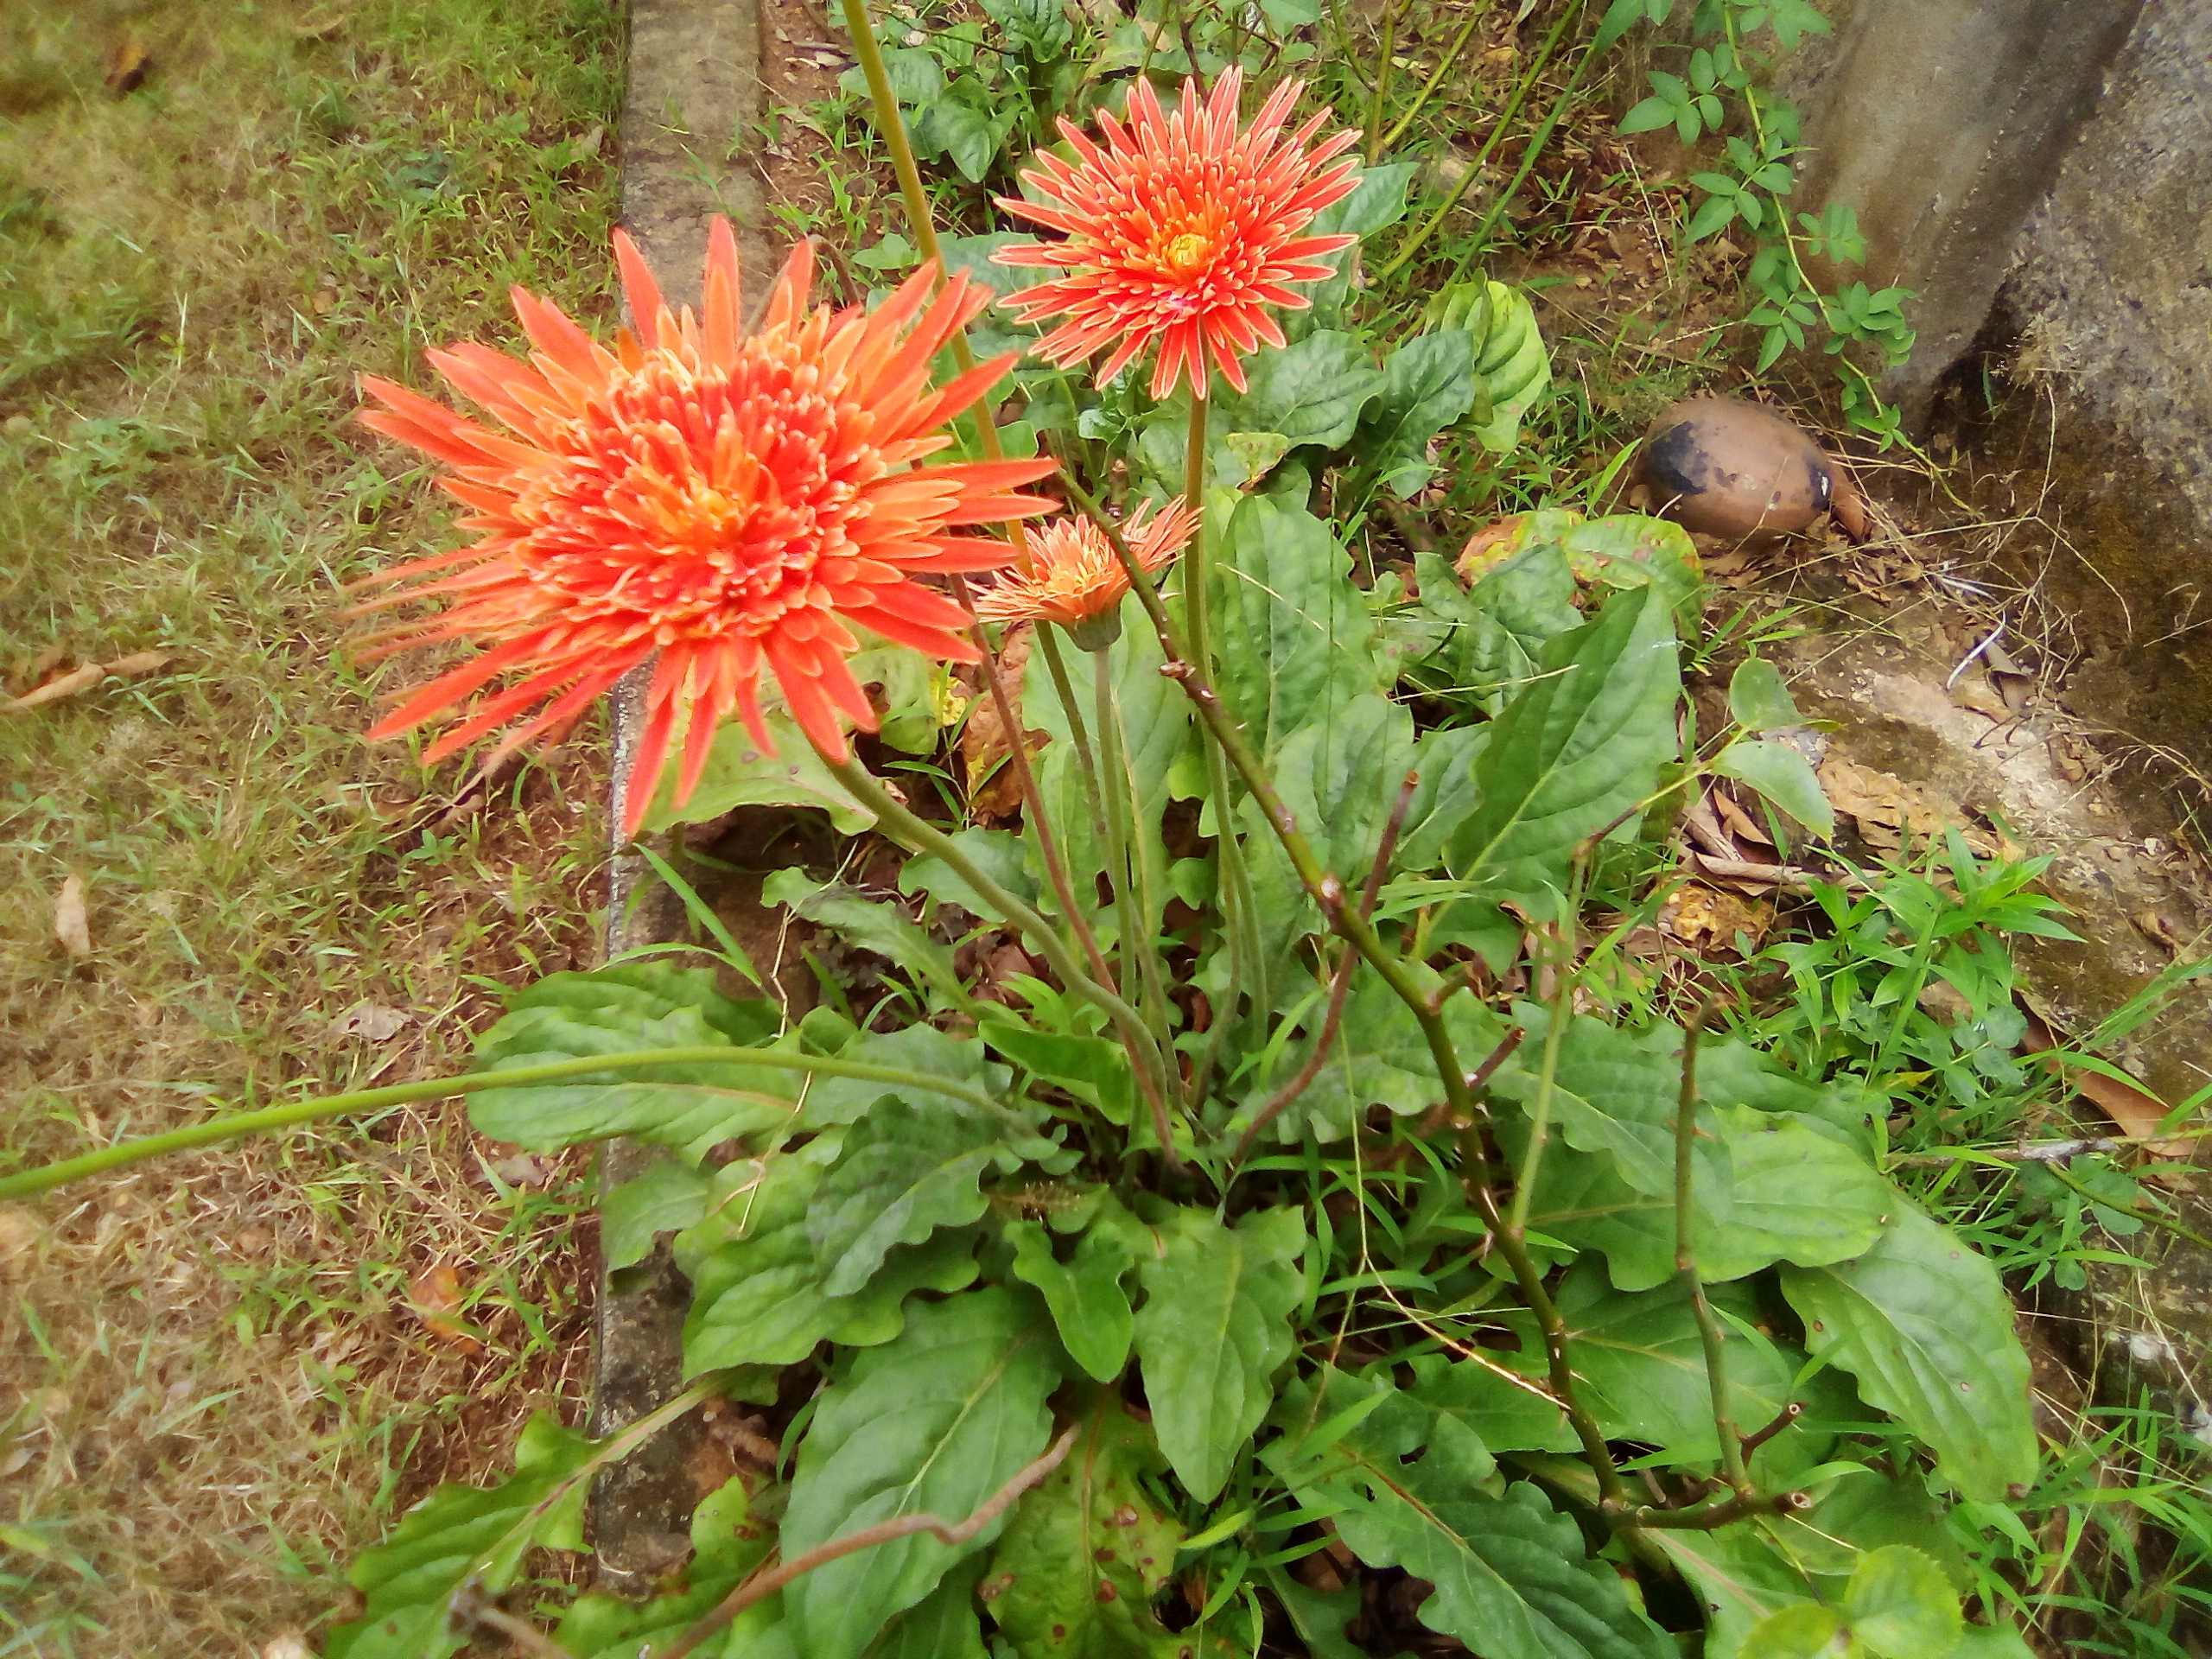ginimala: (331, 249, 1038, 849), (1022, 77, 1369, 397)
